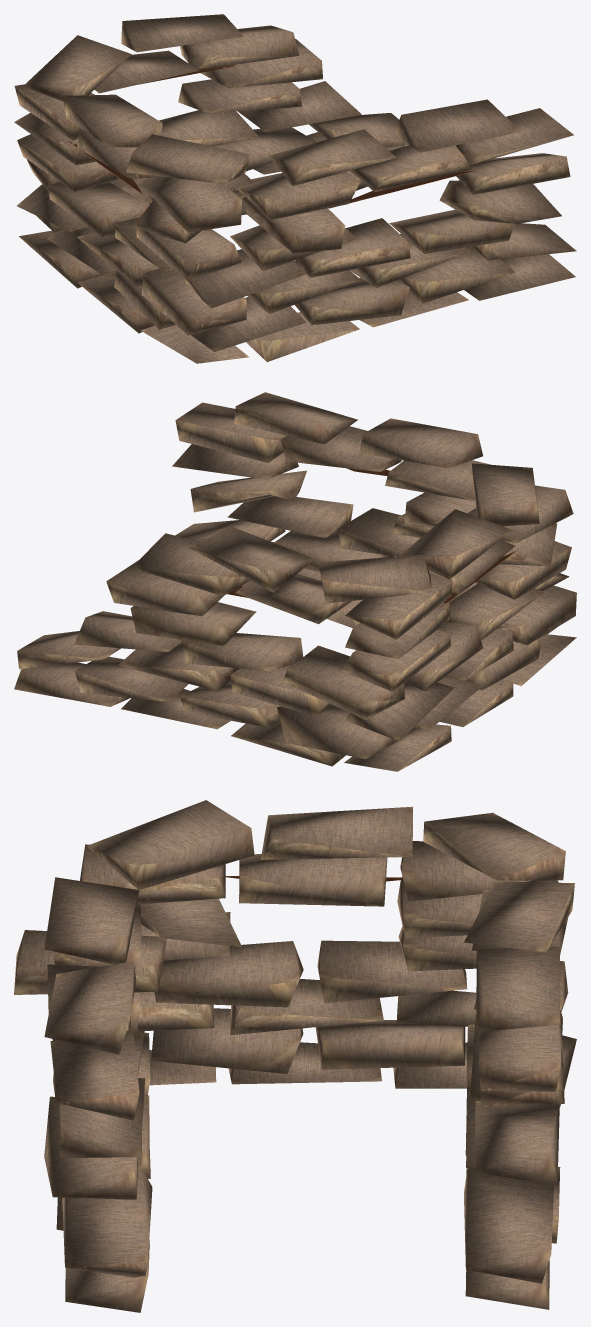
Rendered from base_sb_nest_lod1.glb.
3 views of the same model, one above another, from view 1: azimuth 30°, elevation 25°; view 2: azimuth 150°, elevation 25°; view 3: azimuth 270°, elevation 25° (orthographic). The views are drawn at different scales.
Parts seen in each view (by area): view 1: base_sb_nest; view 2: base_sb_nest; view 3: base_sb_nest.
Boxes of the visible parts, x1=… form: base_sb_nest: x1=14, y1=14, x2=576, y2=363; base_sb_nest: x1=14, y1=392, x2=576, y2=771; base_sb_nest: x1=14, y1=800, x2=576, y2=1312.
Bounding box in the file's own units: 8.44 × 3.89 × 7.65.
Materials: 1 (1 with a texture image).
